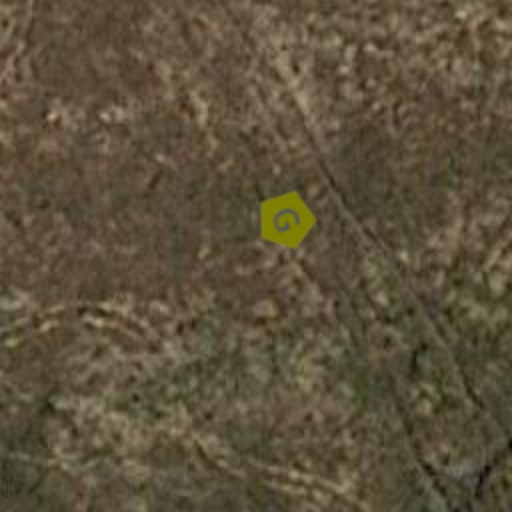pentagon: (246, 180, 326, 260)
